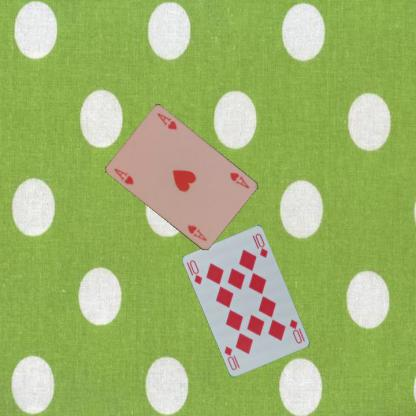10d: (287, 317, 306, 345), (187, 258, 204, 286)
Ah: (112, 166, 135, 186), (228, 170, 250, 189)
